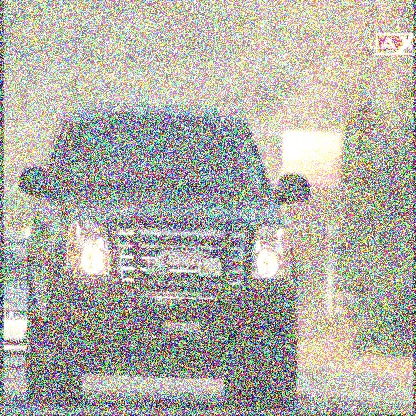Vehicle: (17, 102, 314, 415)
